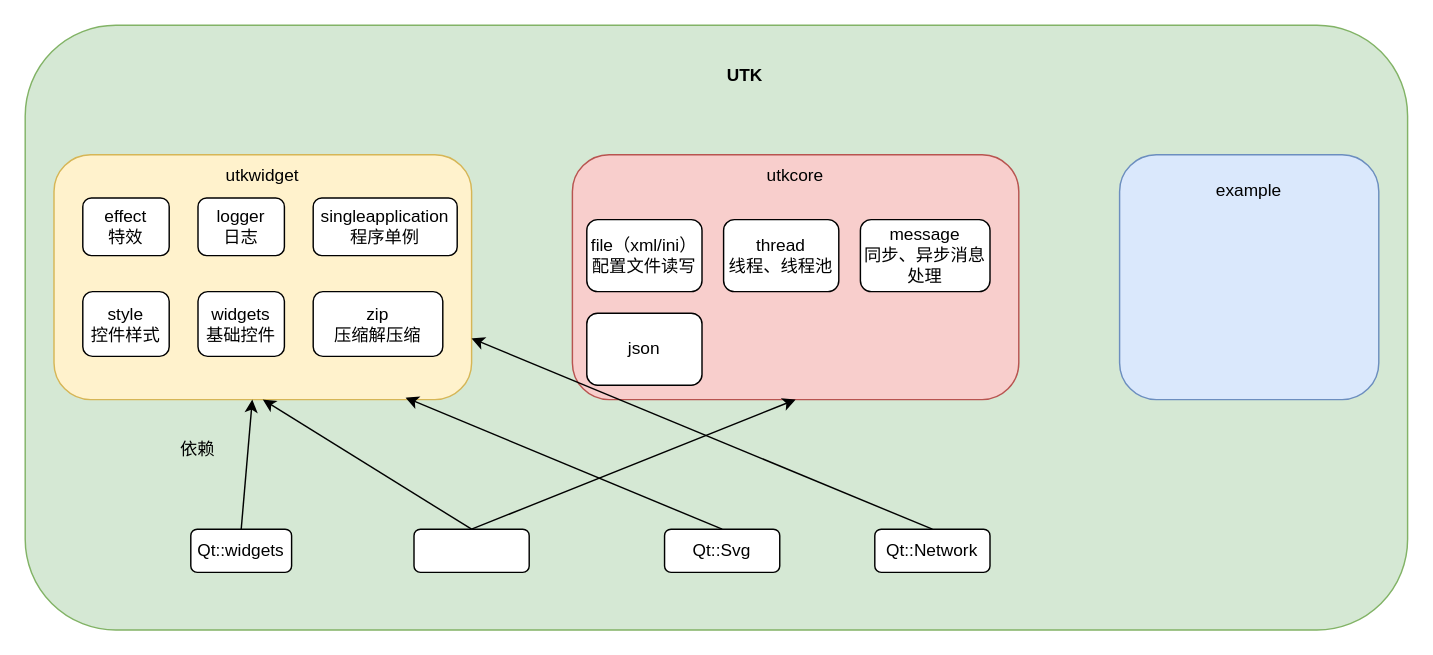
Some shapes in this 1433 by 655 pixel diagram are drawn without their labels. Here are the shapes that lost their labels. From the top down, the box of each, then its label:
(1118, 153, 1379, 400): 代码示例
(413, 528, 529, 572): Qt::Core
